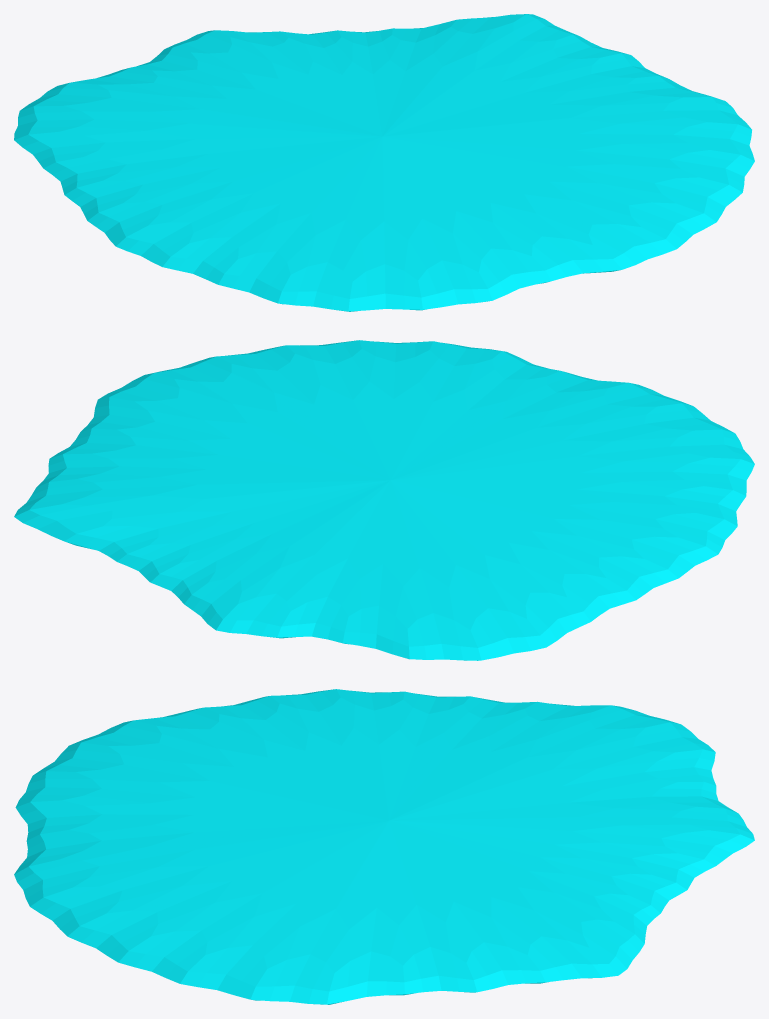
Rendered from water_puddle.glb.
The picture shows the model from 3 angles, top to bottom: view 1: azimuth 30°, elevation 25°; view 2: azimuth 150°, elevation 25°; view 3: azimuth 270°, elevation 25°; orthographic projection. The views are drawn at different scales.
Parts seen in each view (by area): view 1: Cylinder; view 2: Cylinder; view 3: Cylinder.
Boxes of the visible parts, x1,y1,x2,y2 form: Cylinder: (14,14,754,311); Cylinder: (14,340,754,660); Cylinder: (14,689,754,1004).
Size of the model in its own units: 2.42 by 0.15 by 2.41.
